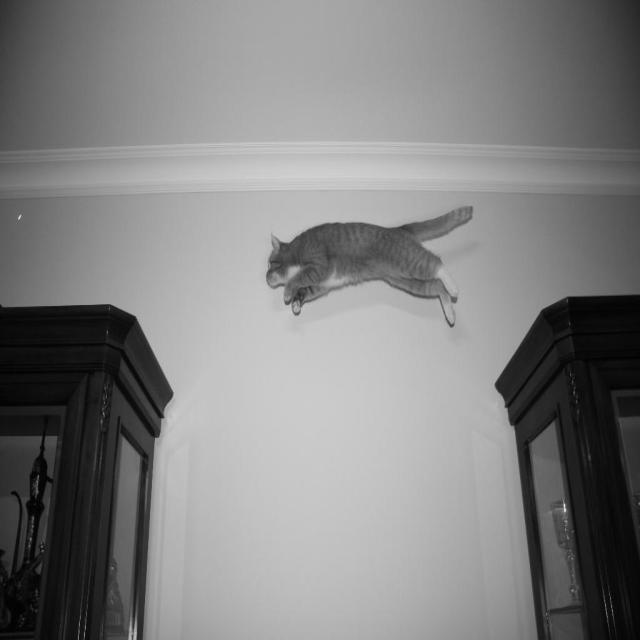Cat: (266, 202, 470, 325)
